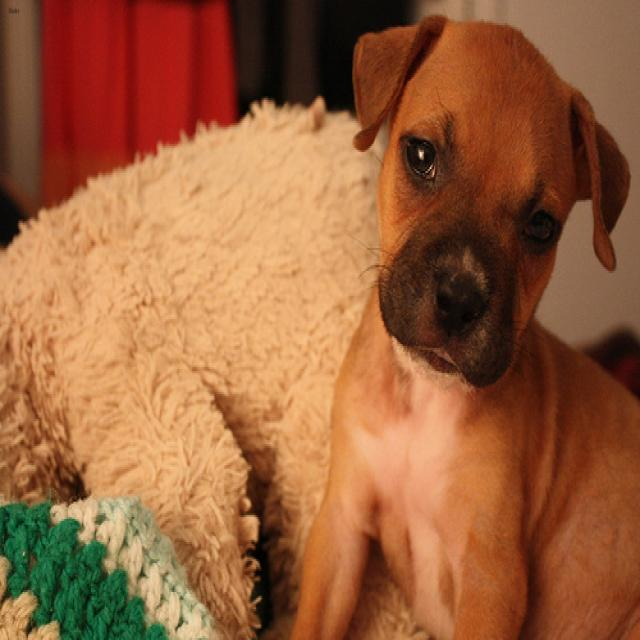dog-boxer: (284, 2, 637, 636)
